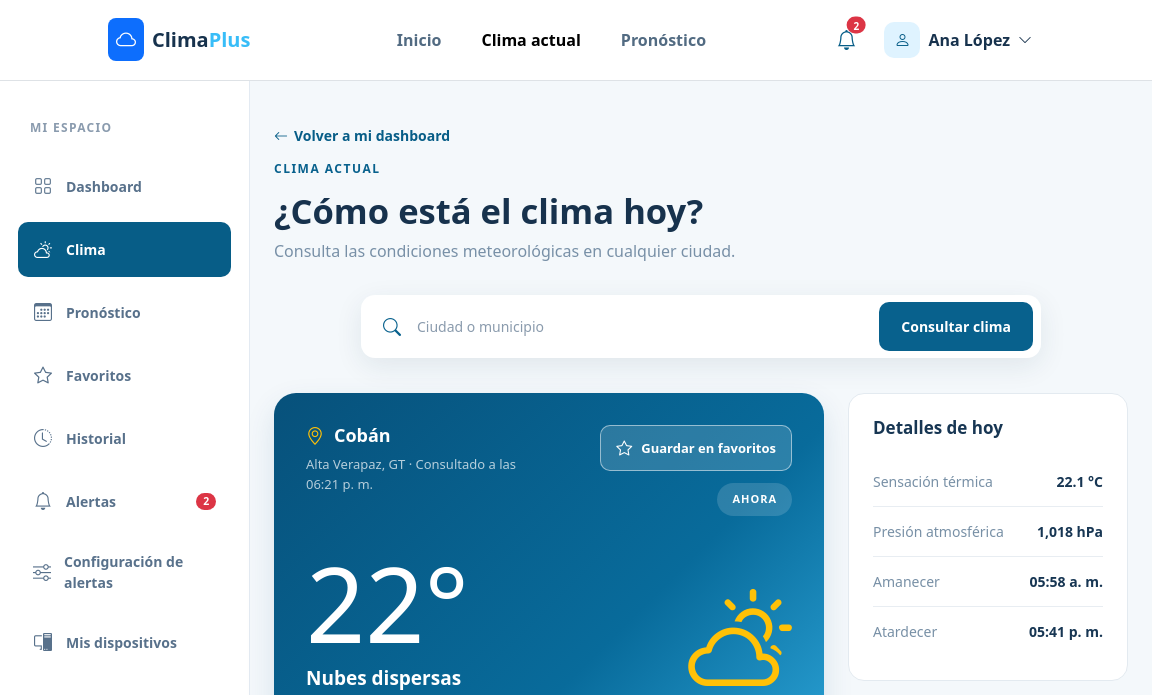
menú lateral persistente › con sesión, Clima muestra el menú de Mi espacio y permite ir directo a Alertas
Expected: the heading "Cobán" is shown, x1=306 y1=424 x2=391 y2=448
Expected: the link "Clima" is shown, x1=18 y1=222 x2=231 y2=277
Click the link "Alertas 2". click: {"x": 91, "y": 502}
box: x1=33 y1=488 x2=216 y2=515
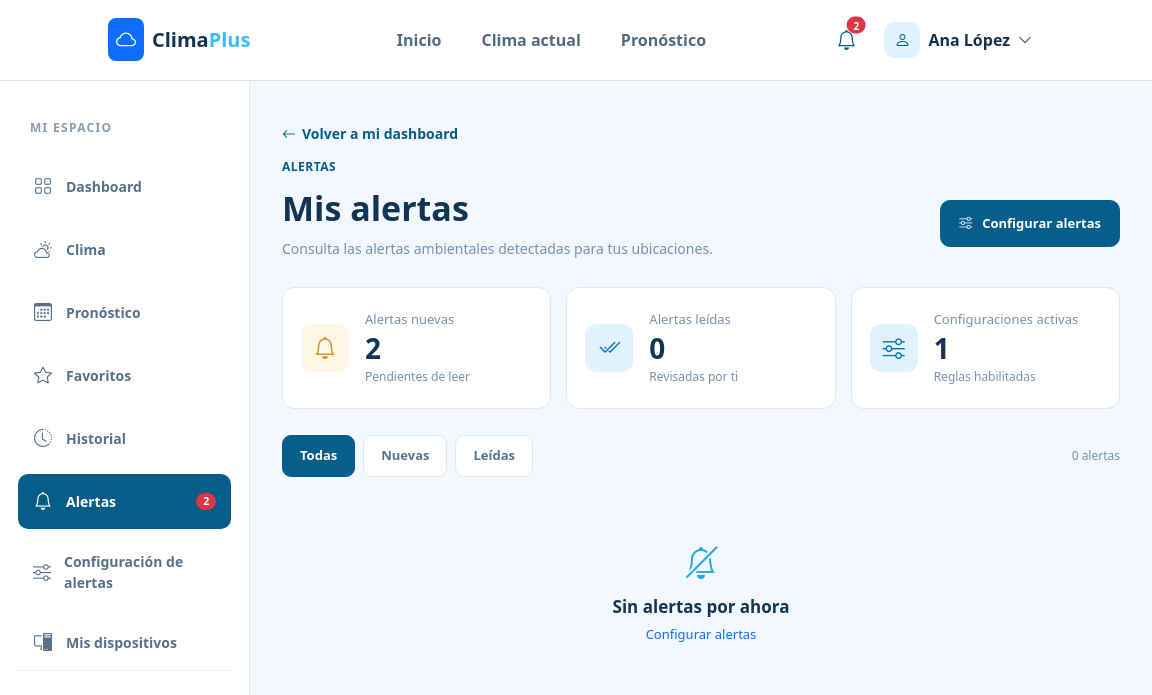
Expected: the heading "Mis alertas" is shown, x1=282 y1=185 x2=469 y2=231
